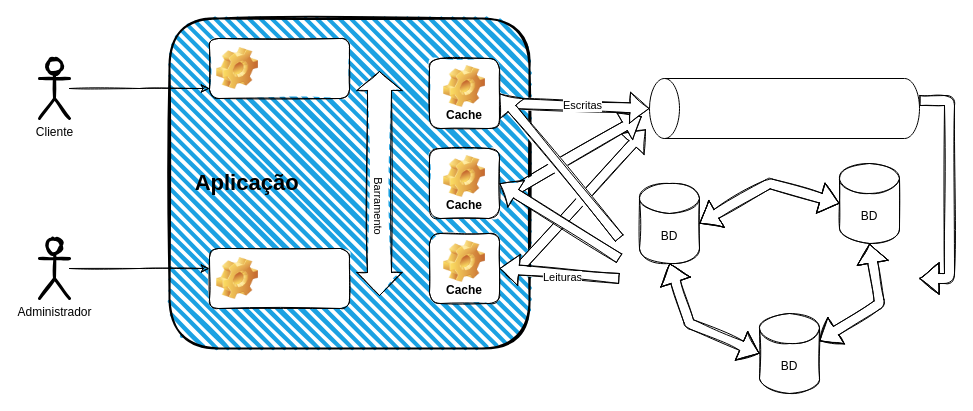
Image size: 973x411. Some labels were removed from this diagram. The centre of each missing label's shape, as x and y in pixels:
Difusão Totalmente Ordenada: the point at 784,108
Portal Admin: the point at 279,278
Portal Cliente: the point at 279,68
